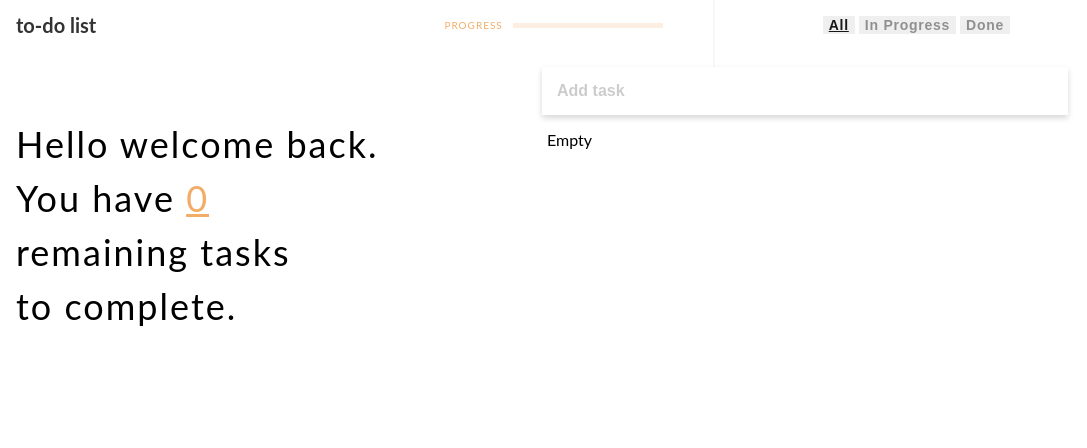
Test case: todo app › As a user i can view only finished todo
Type "Have a lunch" into the field with test id "todo-input" at x=805, y=91, box 542,67 -> 1068,115
Then press Enter
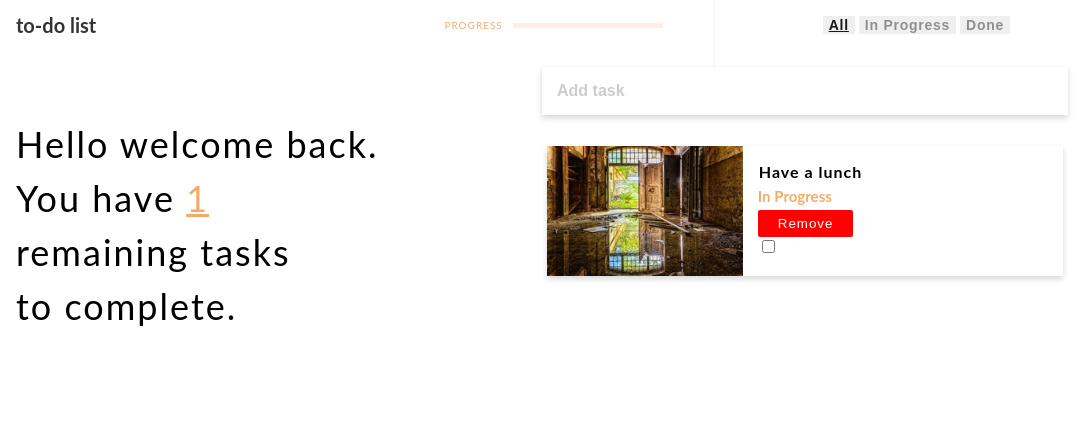
Type "Have a dinner" into the field with test id "todo-input" at x=805, y=91, box 542,67 -> 1068,115
Then press Enter
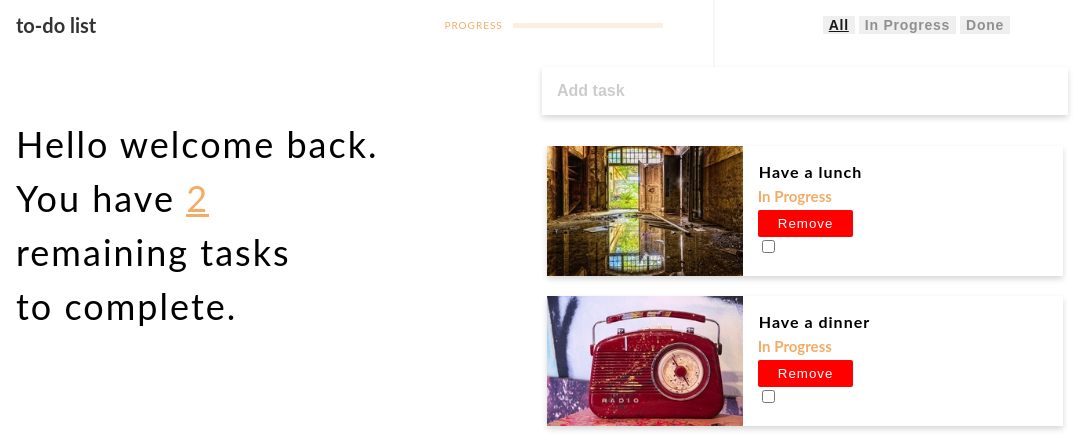
Check the checkbox with test id "checked-btn" below "Have a lunch" at x=769, y=247, box 762,240 -> 775,253
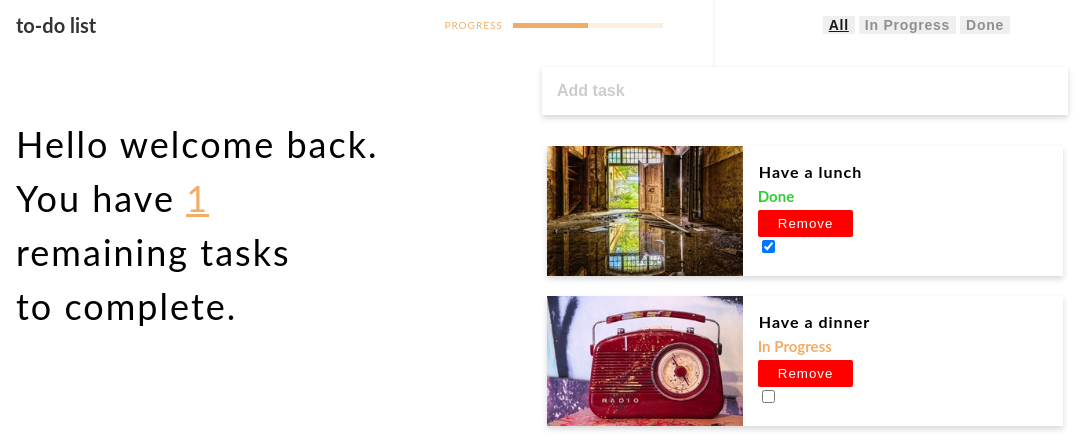
Click the button with test id "done-menu" at x=985, y=25, box 960,16 -> 1010,34
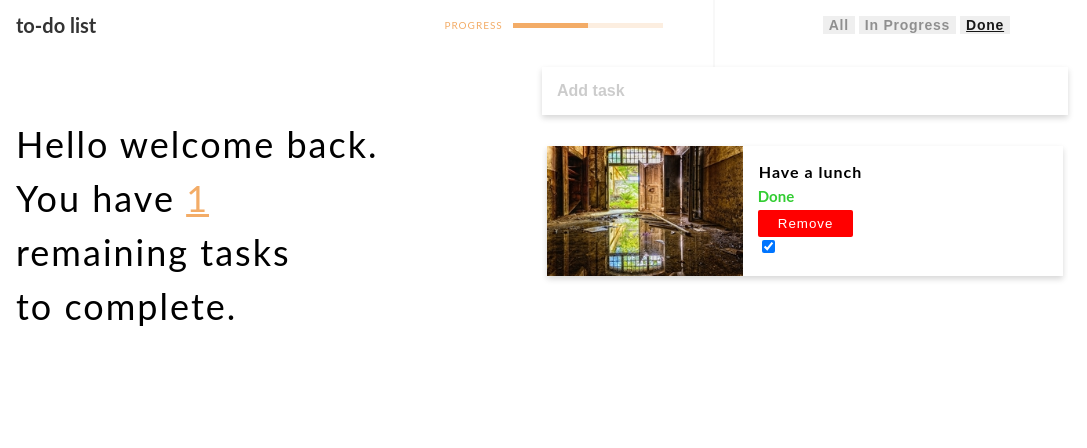
Expected: the text "Have a lunch" is shown, 759,162 -> 862,181
Expected: the number of list items with test id "todo-item" is 1, 547,146 -> 1063,276
